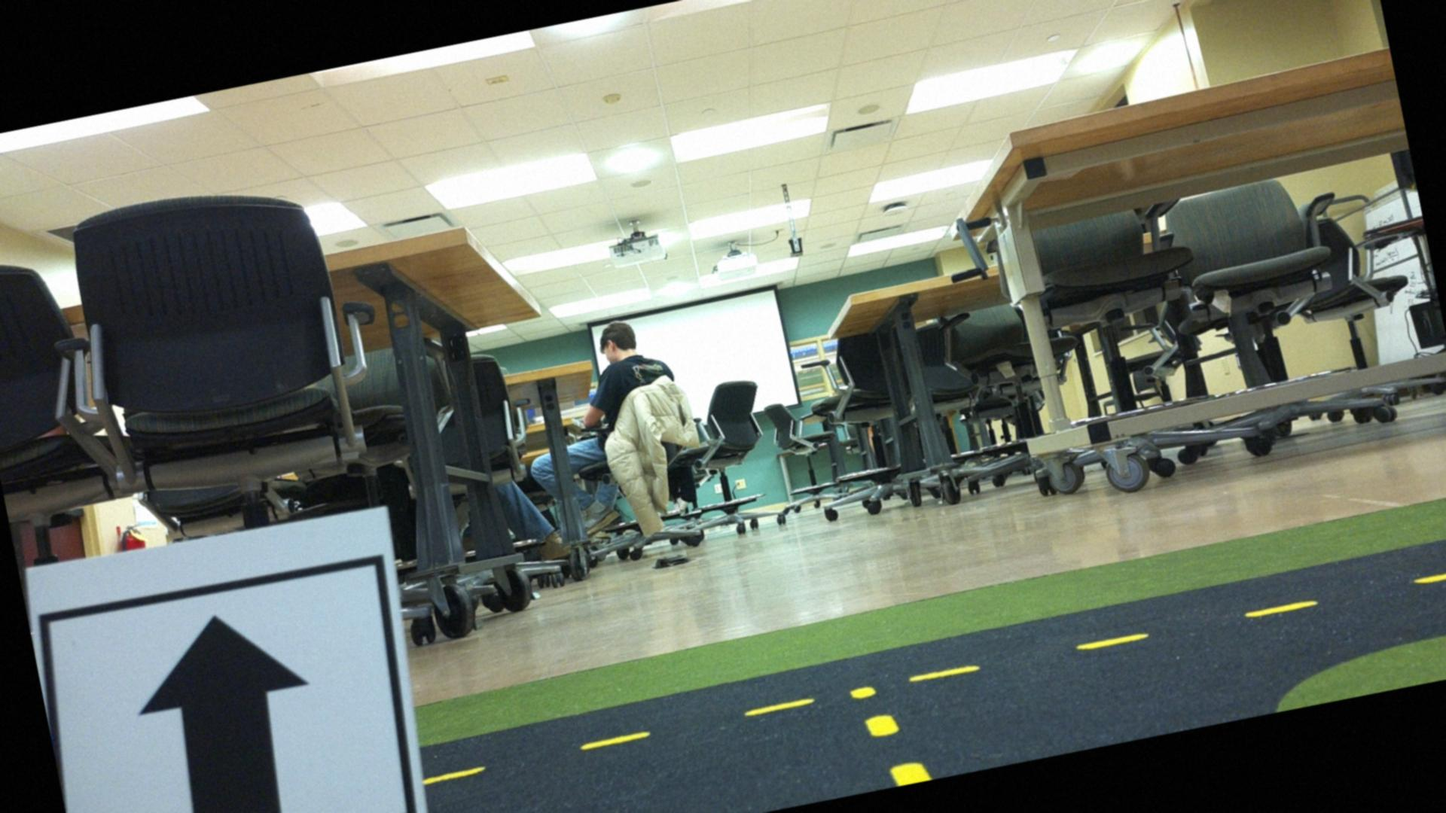gostraight: (23, 514, 432, 812)
yellowline: (419, 560, 1445, 786), (851, 670, 931, 791)
